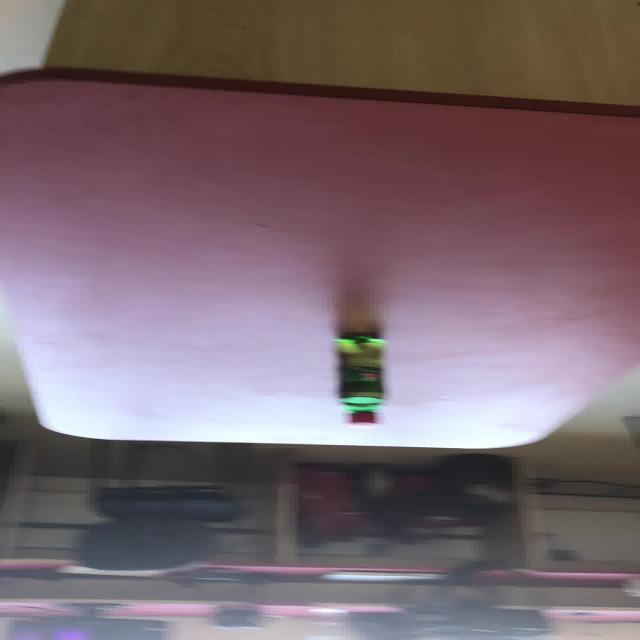guarana: (330, 331, 388, 424)
